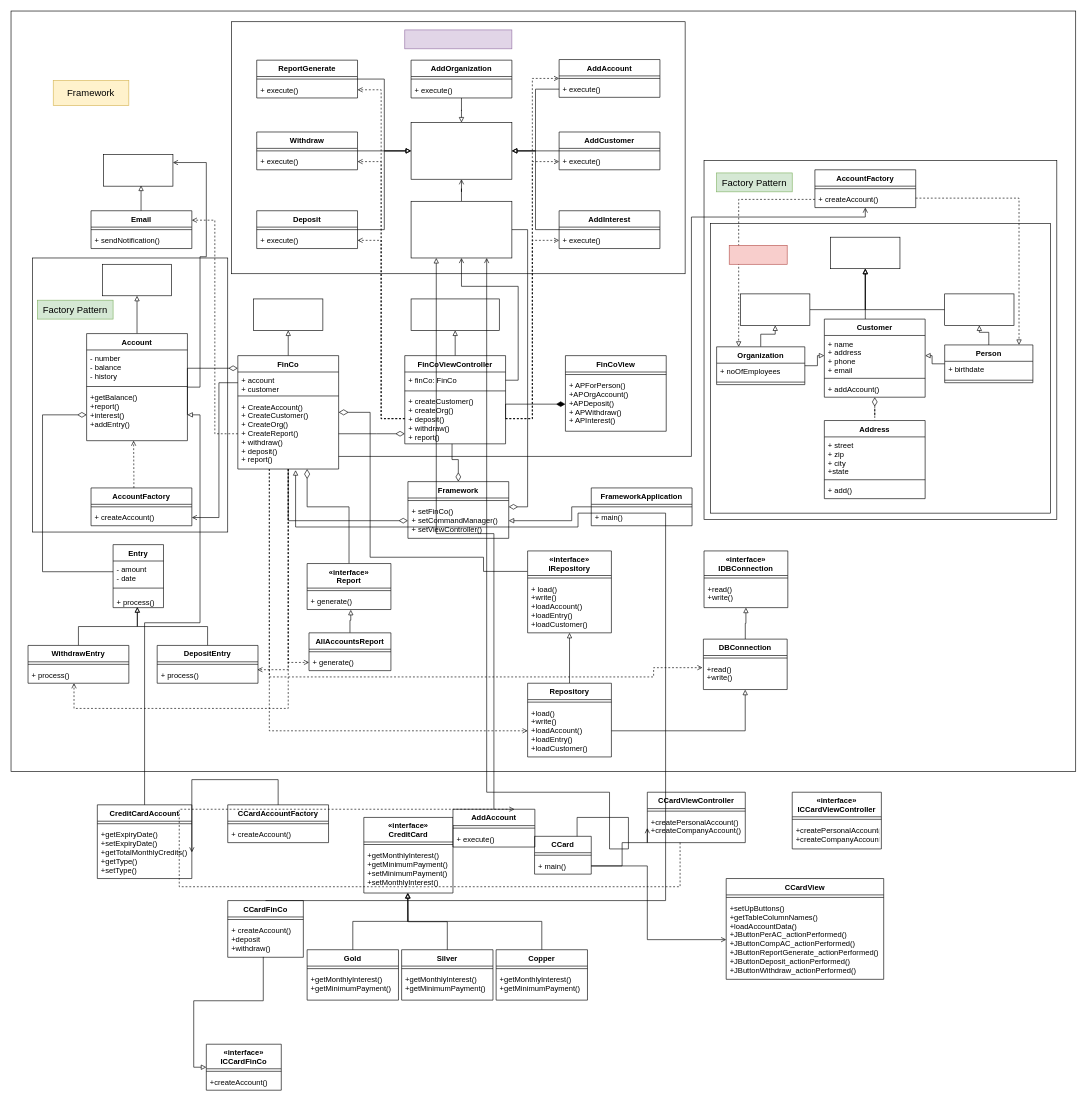
Image size: 1087x1103. Some labels were removed from this diagram. Here are the shapes that lost their labels. From the top down, the centre of each, then its label:
At [458,39]: "Command Pattern".
At [138,170]: "«interface» INotification".
At [461,150]: "«interface» ICommand".
At [461,229]: "CommandManager + invoke()".
At [758,254]: "Party Pattern".
At [865,253]: "«interface» ICustomer".
At [137,280]: "«interface» IAccount".
At [288,314]: "«interface» IFinco".
At [454,314]: "«interface» IFinCoViewController".
At [775,309]: "«interface» IOrganization".
At [979,309]: "«interface» IPerson".
